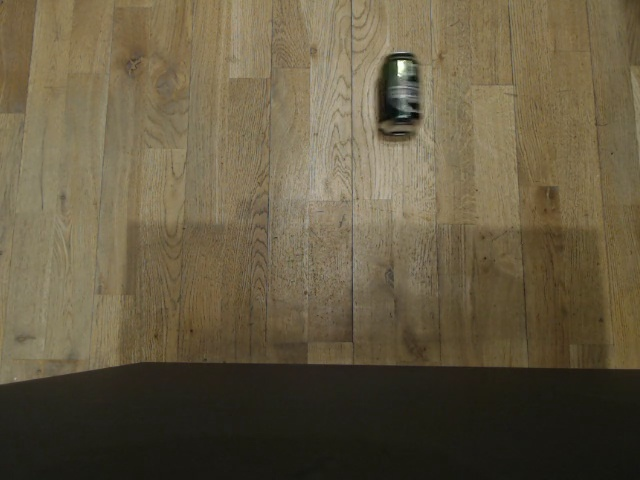beer: (374, 49, 425, 142)
